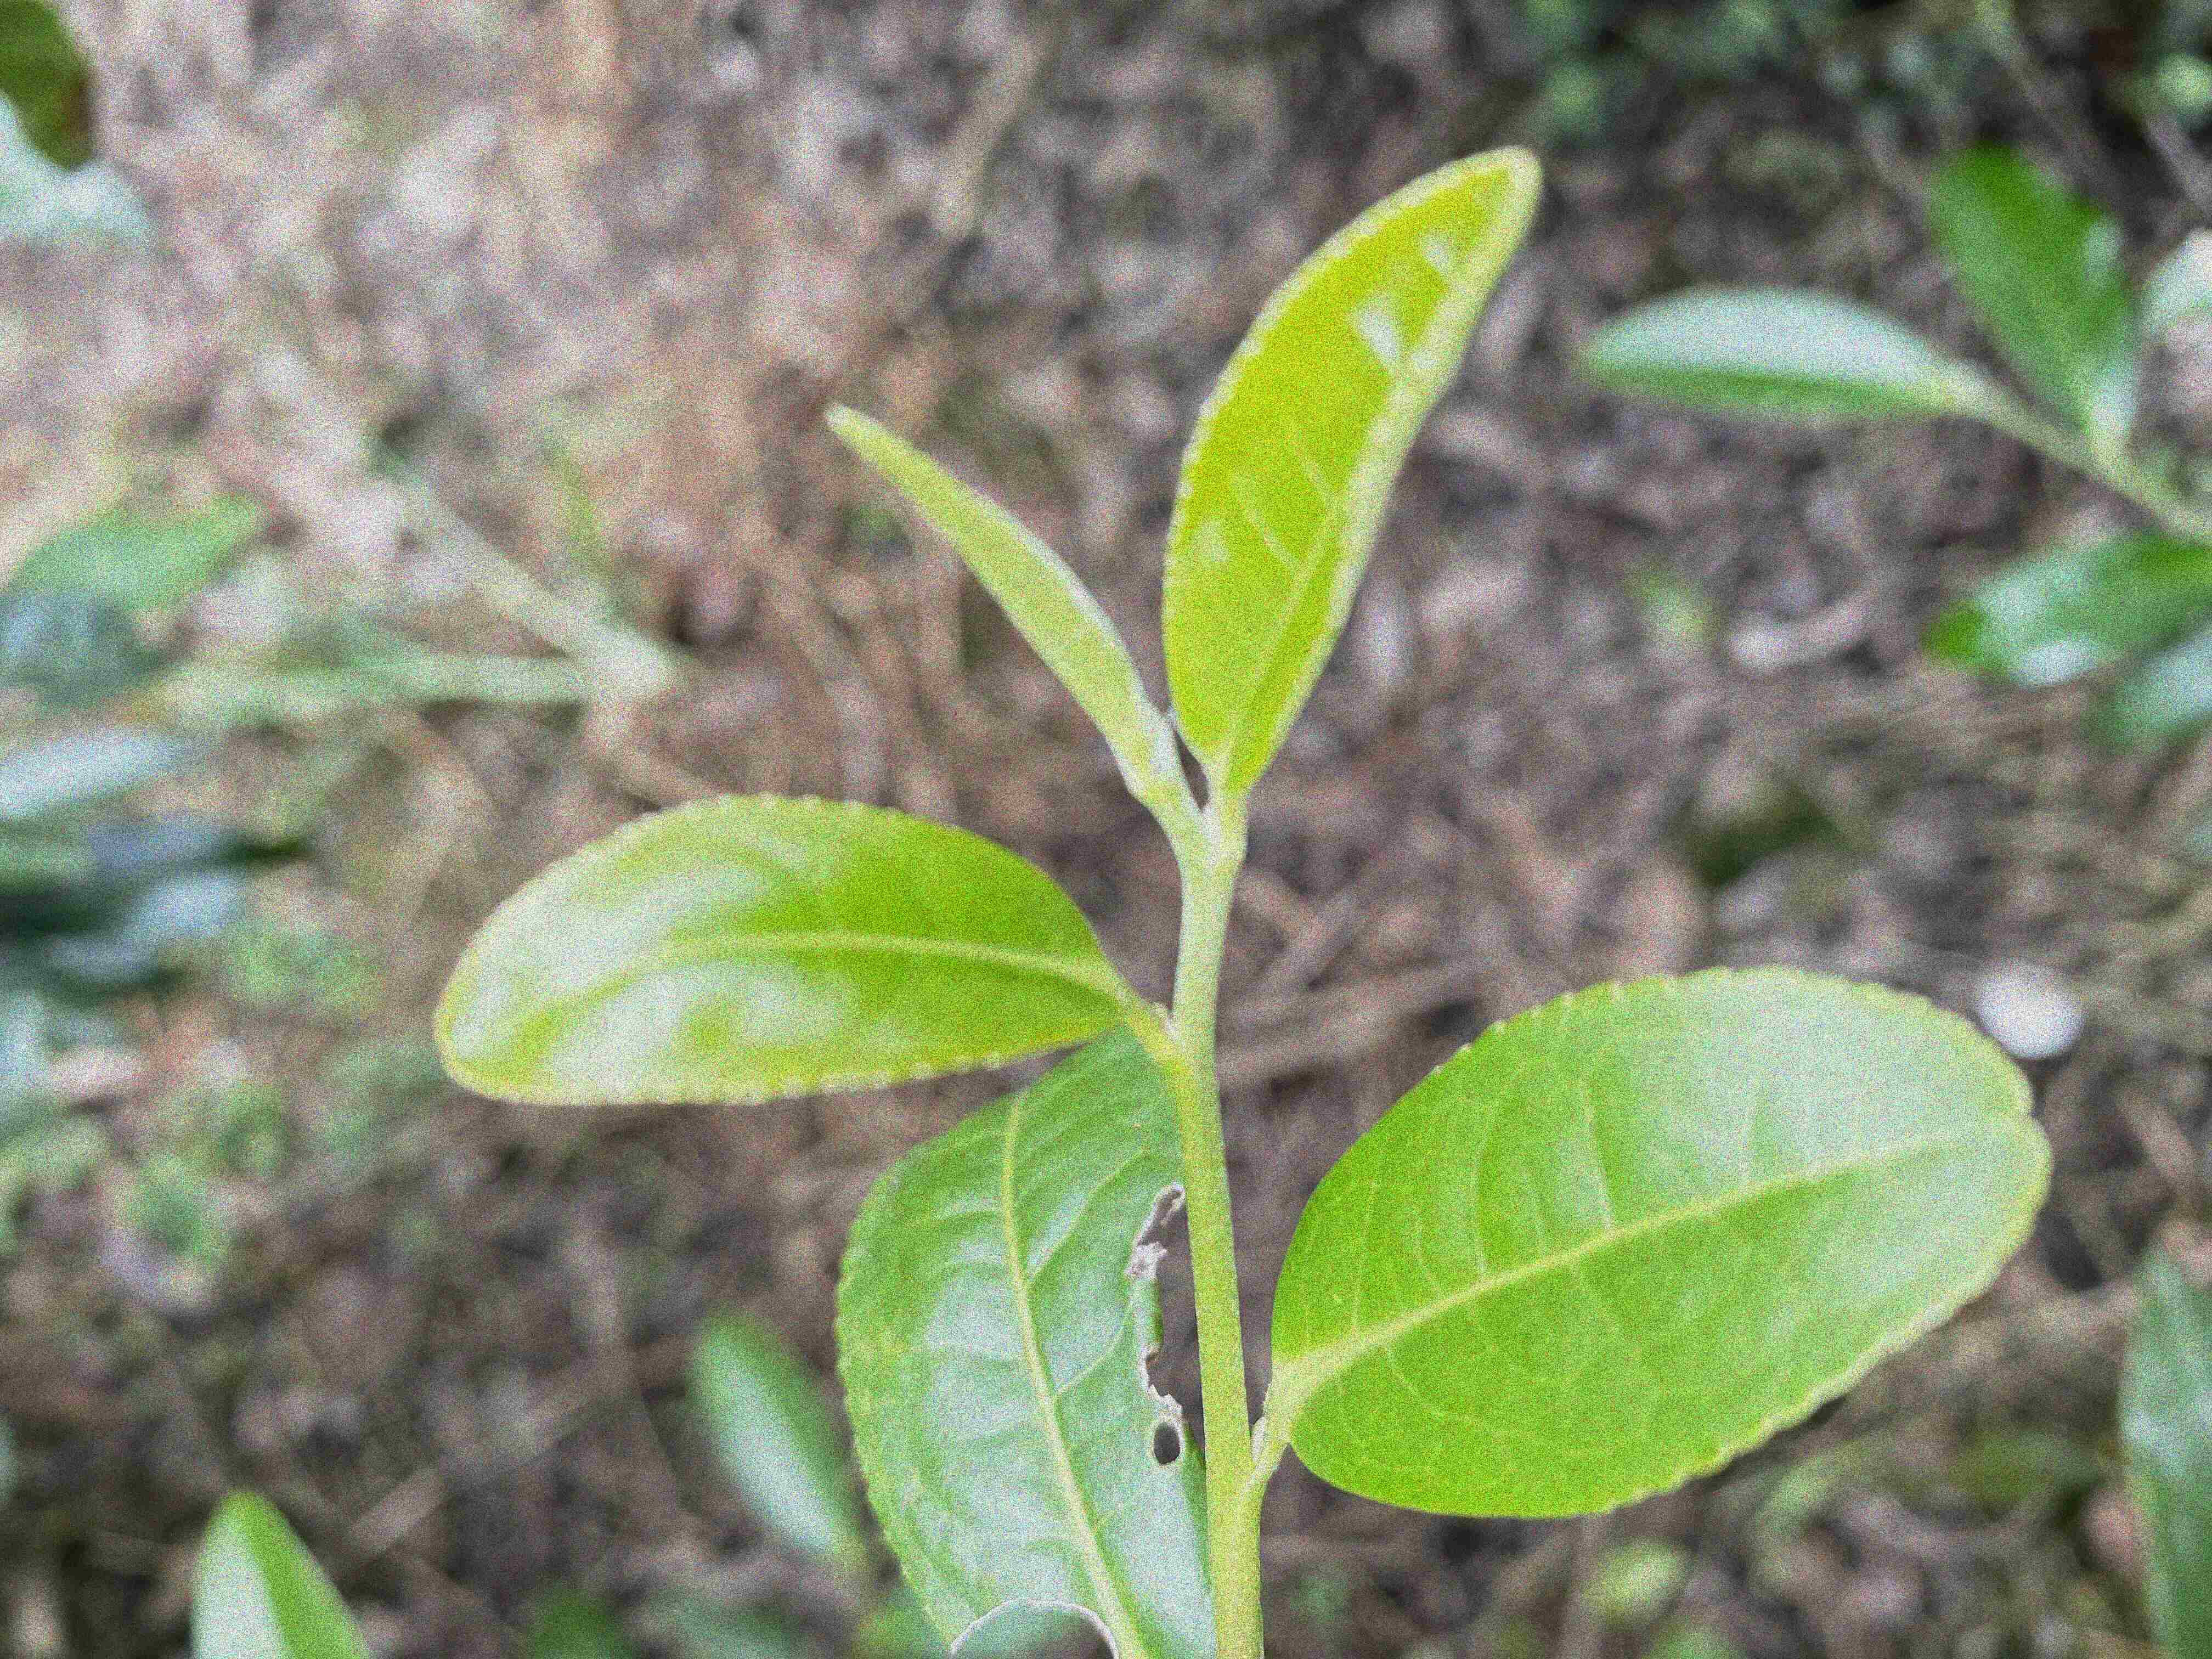chihuo_high: (834, 999, 1216, 1654)
healthy: (1268, 965, 2059, 1520), (1157, 143, 1538, 793), (430, 788, 1137, 1105)
